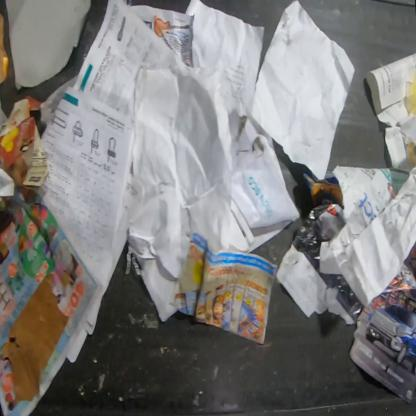cardboard: (0, 96, 50, 192)
soft_plastic: (406, 68, 416, 121)
